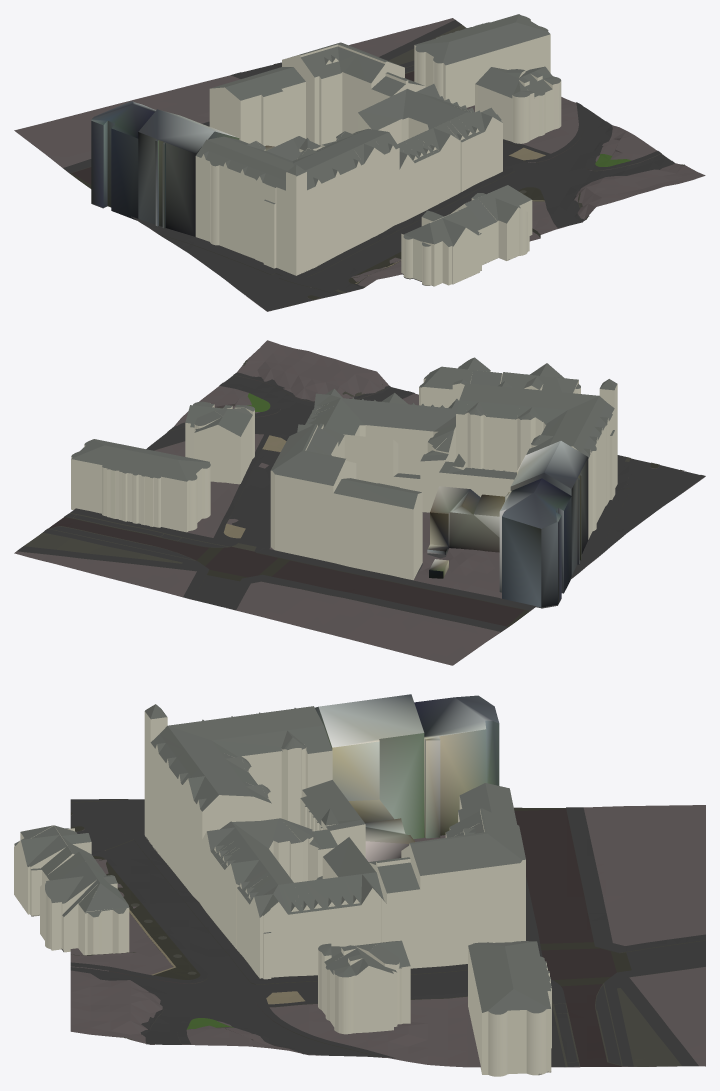
3 renders of one model, top to bottom at view 1: azimuth 30°, elevation 25°; view 2: azimuth 150°, elevation 25°; view 3: azimuth 270°, elevation 25°, orthographic. The views are drawn at different scales.
Parts seen in each view (by area): view 1: c_m08_p10; view 2: c_m08_p10; view 3: c_m08_p10.
Part boxes in pixels (x1,y1,x2,y2): c_m08_p10: [14, 14, 705, 311]; c_m08_p10: [14, 340, 705, 665]; c_m08_p10: [14, 694, 705, 1076].
Size of the model in its own units: 135 by 33.05 by 139.
